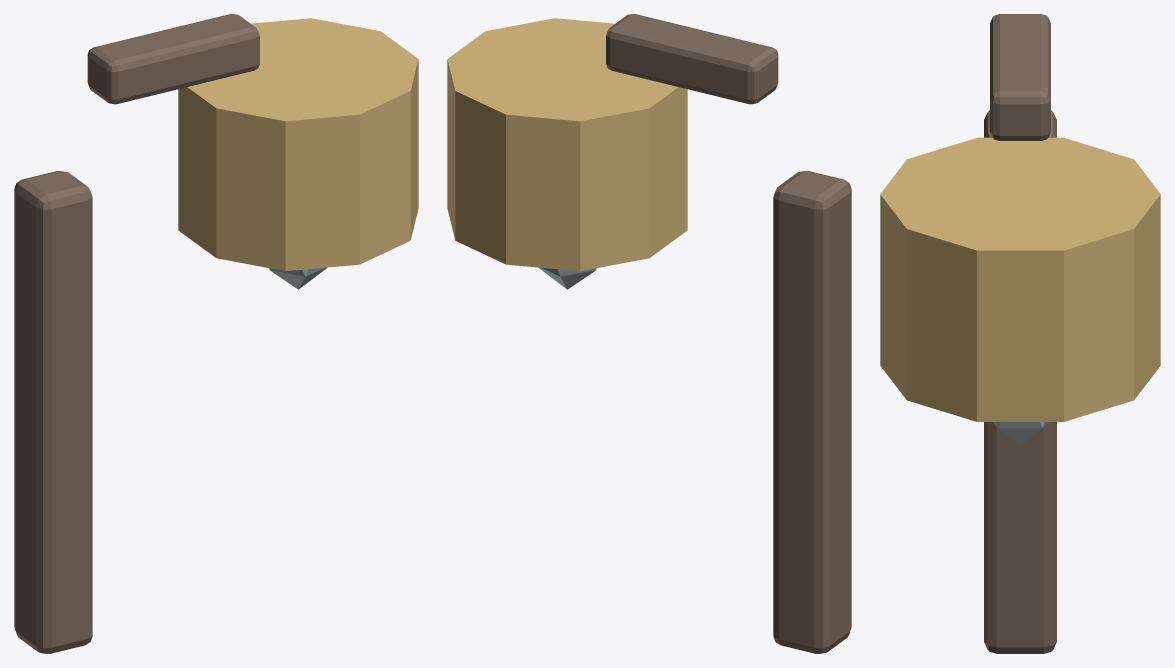
The model's file is prop_oath_bellpost_2_v1.glb.
The picture shows the model from 3 angles, left to right: view 1: azimuth 30°, elevation 25°; view 2: azimuth 150°, elevation 25°; view 3: azimuth 270°, elevation 25°; orthographic projection. The views are drawn at different scales.
Visible parts, largest first — view 1: OathBell, BellPost, BellArm, BellClapper; view 2: OathBell, BellPost, BellArm, BellClapper; view 3: OathBell, BellPost, BellArm, BellClapper.
Part boxes in pixels (x1,y1,x2,y2): OathBell: [178, 18, 418, 271]; BellPost: [14, 171, 92, 653]; BellArm: [87, 14, 259, 104]; BellClapper: [269, 267, 326, 289]; OathBell: [447, 18, 687, 271]; BellPost: [773, 171, 851, 653]; BellArm: [606, 14, 778, 104]; BellClapper: [539, 267, 596, 289]; OathBell: [880, 137, 1160, 421]; BellPost: [984, 110, 1056, 653]; BellArm: [990, 14, 1050, 140]; BellClapper: [993, 422, 1047, 445].
Bounding box in the file's own units: 0.8087 × 1.19 × 0.46.
